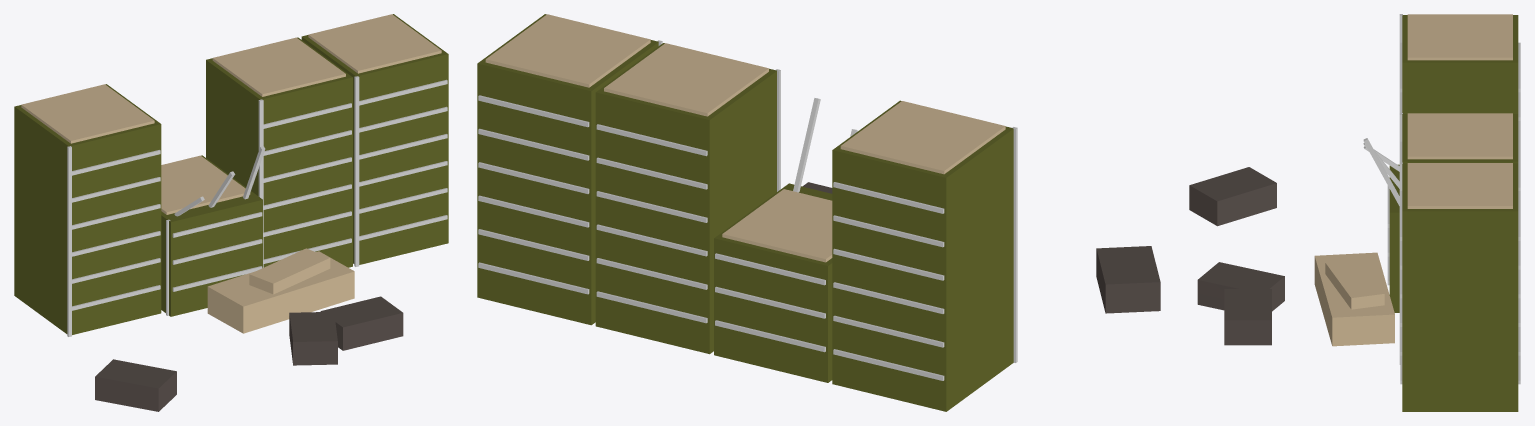
Rendered from SM_HescoCorto4_v1_Geotextil_e1_Danado_LOD0.fbx.
The picture shows the model from 3 angles, left to right: view 1: azimuth 30°, elevation 25°; view 2: azimuth 150°, elevation 25°; view 3: azimuth 270°, elevation 25°; orthographic projection. The views are drawn at different scales.
Parts seen in each view (by area): view 1: SM_hesco_piezas_v105_LOD0; view 2: SM_hesco_piezas_v105_LOD0; view 3: SM_hesco_piezas_v105_LOD0.
Part boxes in pixels (<box>): SM_hesco_piezas_v105_LOD0: <box>14,14,448,411</box>; SM_hesco_piezas_v105_LOD0: <box>477,14,1160,411</box>; SM_hesco_piezas_v105_LOD0: <box>1189,14,1520,411</box>.
Bounding box in the file's own units: 4.94 × 2.13 × 3.14.
